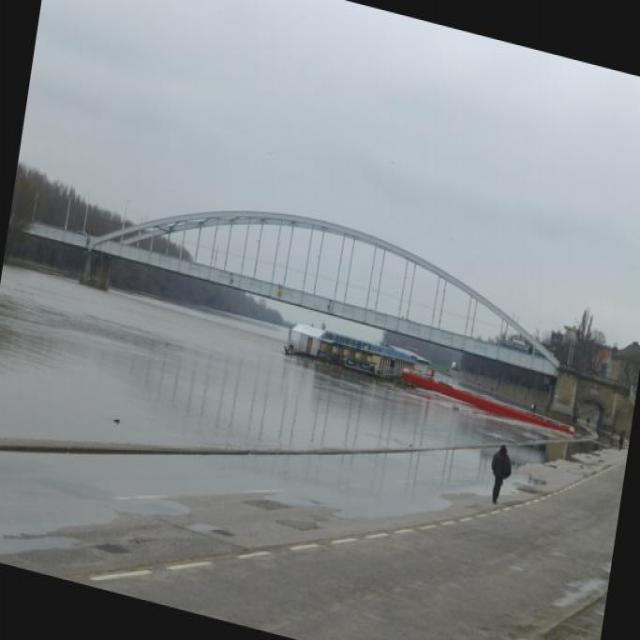flood: (0, 248, 497, 639)
